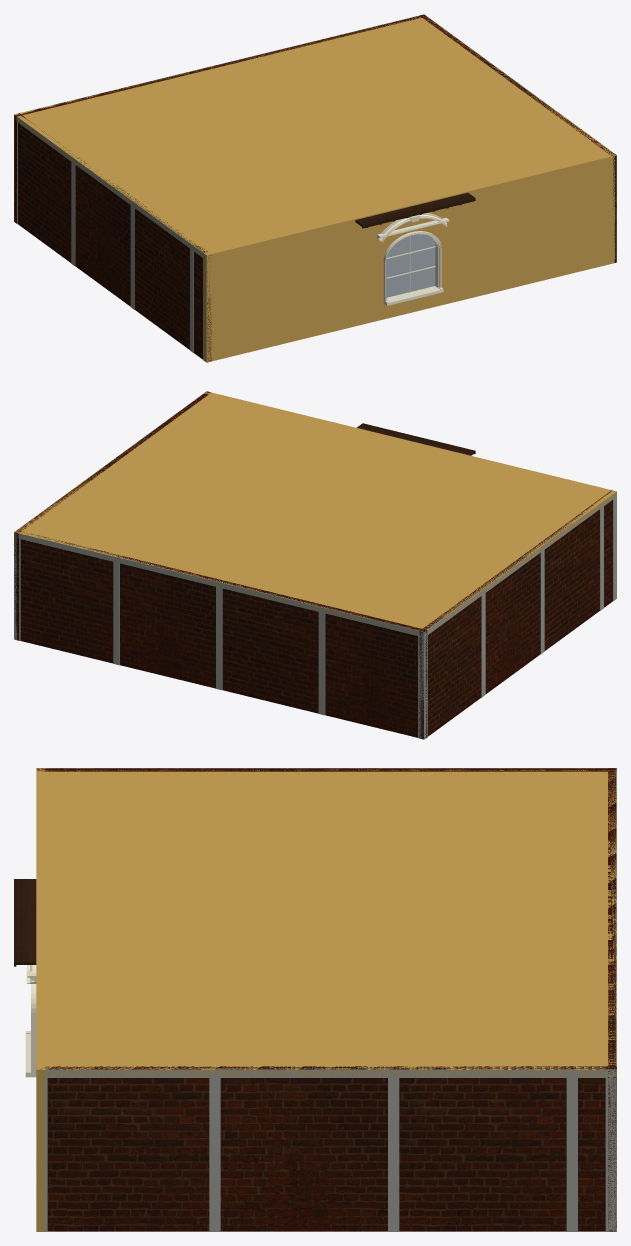
Rendered from building.glb.
3 views of the same model, one above another, from view 1: azimuth 30°, elevation 25°; view 2: azimuth 150°, elevation 25°; view 3: azimuth 270°, elevation 25° (orthographic). The views are drawn at different scales.
Parts seen in each view (by area): view 1: roof/house:0/roof_slab#0001, house:0/edge0/z0/house:0/edge0/z0/wall_0_0, house:0/edge3/z0/house:0/edge3/z0/wall_0_0, house:0/edge0/z0/opening_u6.90_v0.60/window_glass#0001, house:0/edge2/z0/house:0/edge2/z0/wall_0_0, house:0/edge1/z0/house:0/edge1/z0/wall_0_0, house:0/edge3/z0/house:0/edge3/z0/beam_0_0, house:0/edge0/z0/proj_eave_00/eave#0001, house:0/edge3/z0/house:0/edge3/z0/column_3_0, house:0/edge3/z0/house:0/edge3/z0/column_2_0; view 2: roof/house:0/roof_slab#0001, house:0/edge2/z0/house:0/edge2/z0/wall_0_0, house:0/edge3/z0/house:0/edge3/z0/wall_0_0, house:0/edge2/z0/house:0/edge2/z0/beam_0_0, house:0/edge0/z0/house:0/edge0/z0/wall_0_0, house:0/edge1/z0/house:0/edge1/z0/wall_0_0, house:0/edge3/z0/house:0/edge3/z0/beam_0_0, house:0/edge2/z0/house:0/edge2/z0/column_4_0, house:0/edge0/z0/proj_eave_00/eave#0001, house:0/edge2/z0/house:0/edge2/z0/column_3_0, house:0/edge2/z0/house:0/edge2/z0/column_2_0, house:0/edge2/z0/house:0/edge2/z0/column_1_0 (+3 smaller); view 3: roof/house:0/roof_slab#0001, house:0/edge1/z0/house:0/edge1/z0/wall_0_0, house:0/edge1/z0/house:0/edge1/z0/beam_0_0, house:0/edge0/z0/house:0/edge0/z0/wall_0_0, house:0/edge2/z0/house:0/edge2/z0/wall_0_0, house:0/edge3/z0/house:0/edge3/z0/wall_0_0, house:0/edge0/z0/proj_eave_00/eave#0001, house:0/edge1/z0/house:0/edge1/z0/column_1_0, house:0/edge1/z0/house:0/edge1/z0/column_2_0, house:0/edge1/z0/house:0/edge1/z0/column_3_0, house:0/edge1/z0/house:0/edge1/z0/column_4_0, house:0/edge1/z0/house:0/edge1/z0/column_0_0.
Part boxes in pixels (left/top/right/bottom): roof/house:0/roof_slab#0001: left=14, top=14, right=615, bottom=258; house:0/edge0/z0/house:0/edge0/z0/wall_0_0: left=203, top=155, right=616, bottom=362; house:0/edge3/z0/house:0/edge3/z0/wall_0_0: left=18, top=113, right=211, bottom=362; house:0/edge0/z0/opening_u6.90_v0.60/window_glass#0001: left=386, top=234, right=435, bottom=297; house:0/edge2/z0/house:0/edge2/z0/wall_0_0: left=14, top=15, right=425, bottom=223; house:0/edge1/z0/house:0/edge1/z0/wall_0_0: left=419, top=14, right=616, bottom=262; house:0/edge3/z0/house:0/edge3/z0/beam_0_0: left=14, top=114, right=204, bottom=258; house:0/edge0/z0/proj_eave_00/eave#0001: left=355, top=192, right=475, bottom=226; house:0/edge3/z0/house:0/edge3/z0/column_3_0: left=130, top=205, right=134, bottom=309; house:0/edge3/z0/house:0/edge3/z0/column_2_0: left=71, top=162, right=75, bottom=266; roof/house:0/roof_slab#0001: left=14, top=392, right=616, bottom=634; house:0/edge2/z0/house:0/edge2/z0/wall_0_0: left=19, top=530, right=427, bottom=737; house:0/edge3/z0/house:0/edge3/z0/wall_0_0: left=419, top=490, right=612, bottom=739; house:0/edge2/z0/house:0/edge2/z0/beam_0_0: left=14, top=532, right=424, bottom=637; house:0/edge0/z0/house:0/edge0/z0/wall_0_0: left=204, top=392, right=616, bottom=598; house:0/edge1/z0/house:0/edge1/z0/wall_0_0: left=14, top=391, right=210, bottom=640; house:0/edge3/z0/house:0/edge3/z0/beam_0_0: left=424, top=491, right=616, bottom=637; house:0/edge2/z0/house:0/edge2/z0/column_4_0: left=318, top=612, right=325, bottom=715; house:0/edge0/z0/proj_eave_00/eave#0001: left=356, top=423, right=475, bottom=455; house:0/edge2/z0/house:0/edge2/z0/column_3_0: left=216, top=587, right=222, bottom=690; house:0/edge2/z0/house:0/edge2/z0/column_2_0: left=113, top=562, right=119, bottom=665; house:0/edge2/z0/house:0/edge2/z0/column_1_0: left=418, top=636, right=424, bottom=739; roof/house:0/roof_slab#0001: left=36, top=768, right=616, bottom=1075; house:0/edge1/z0/house:0/edge1/z0/wall_0_0: left=40, top=1066, right=616, bottom=1231; house:0/edge1/z0/house:0/edge1/z0/beam_0_0: left=36, top=1069, right=616, bottom=1077; house:0/edge0/z0/house:0/edge0/z0/wall_0_0: left=36, top=768, right=45, bottom=1231; house:0/edge2/z0/house:0/edge2/z0/wall_0_0: left=608, top=768, right=616, bottom=1231; house:0/edge3/z0/house:0/edge3/z0/wall_0_0: left=36, top=768, right=616, bottom=771; house:0/edge0/z0/proj_eave_00/eave#0001: left=14, top=879, right=36, bottom=964; house:0/edge1/z0/house:0/edge1/z0/column_1_0: left=605, top=1078, right=616, bottom=1231; house:0/edge1/z0/house:0/edge1/z0/column_2_0: left=209, top=1078, right=220, bottom=1231; house:0/edge1/z0/house:0/edge1/z0/column_3_0: left=388, top=1078, right=399, bottom=1231; house:0/edge1/z0/house:0/edge1/z0/column_4_0: left=566, top=1078, right=577, bottom=1231; house:0/edge1/z0/house:0/edge1/z0/column_0_0: left=36, top=1078, right=47, bottom=1231.
Size of the model in its own units: 16 by 4 by 13.5.
Materials: 7 (2 with a texture image).
